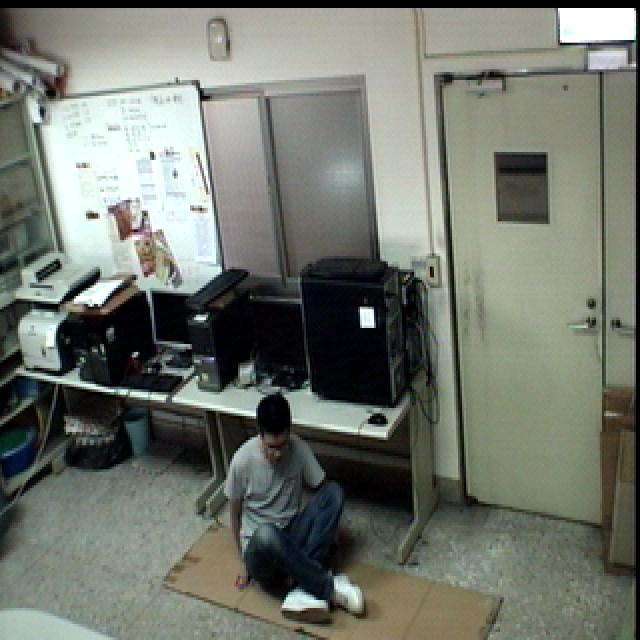sit: (216, 387, 369, 628)
